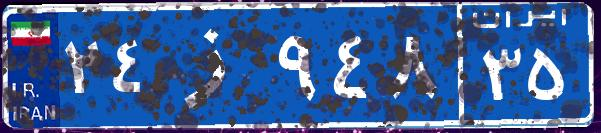2: (57, 26, 110, 107)
3: (475, 38, 525, 113)
4: (330, 28, 385, 110), (110, 28, 158, 105)
5: (525, 38, 570, 115)
8: (385, 28, 445, 110)
9: (273, 28, 330, 110)
ز: (158, 15, 273, 115)
